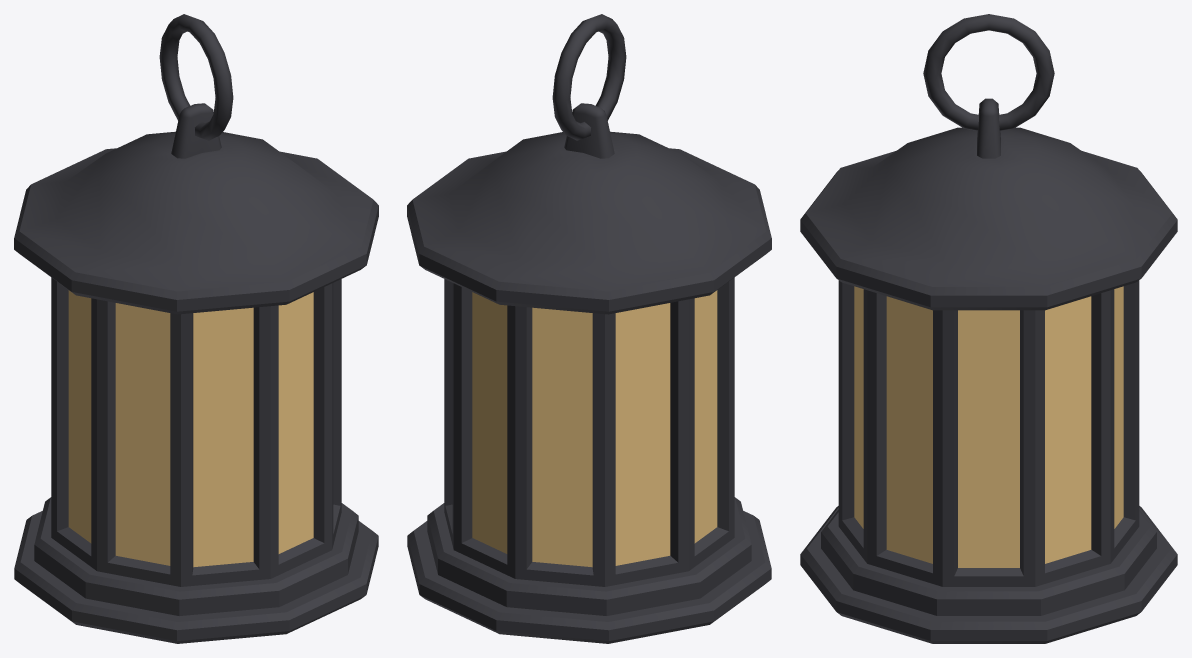
File: Lantern_2.fbx
The picture shows the model from 3 angles, left to right: view 1: azimuth 30°, elevation 25°; view 2: azimuth 150°, elevation 25°; view 3: azimuth 270°, elevation 25°; orthographic projection.
Parts seen in each view (by area): view 1: Lantern_2, Lantern_2_Glass, Lantern_Ring; view 2: Lantern_2, Lantern_2_Glass, Lantern_Ring; view 3: Lantern_2, Lantern_2_Glass, Lantern_Ring.
Boxes of the visible parts, <box> form: Lantern_2: <box>14,103,378,643</box>; Lantern_2_Glass: <box>68,290,313,567</box>; Lantern_Ring: <box>159,14,233,140</box>; Lantern_2: <box>407,103,771,643</box>; Lantern_2_Glass: <box>472,290,717,567</box>; Lantern_Ring: <box>552,14,626,140</box>; Lantern_2: <box>800,98,1177,643</box>; Lantern_2_Glass: <box>854,286,1123,567</box>; Lantern_Ring: <box>923,14,1054,130</box>.
Bounding box in the file's own units: 15.85 × 27.12 × 16.67.
